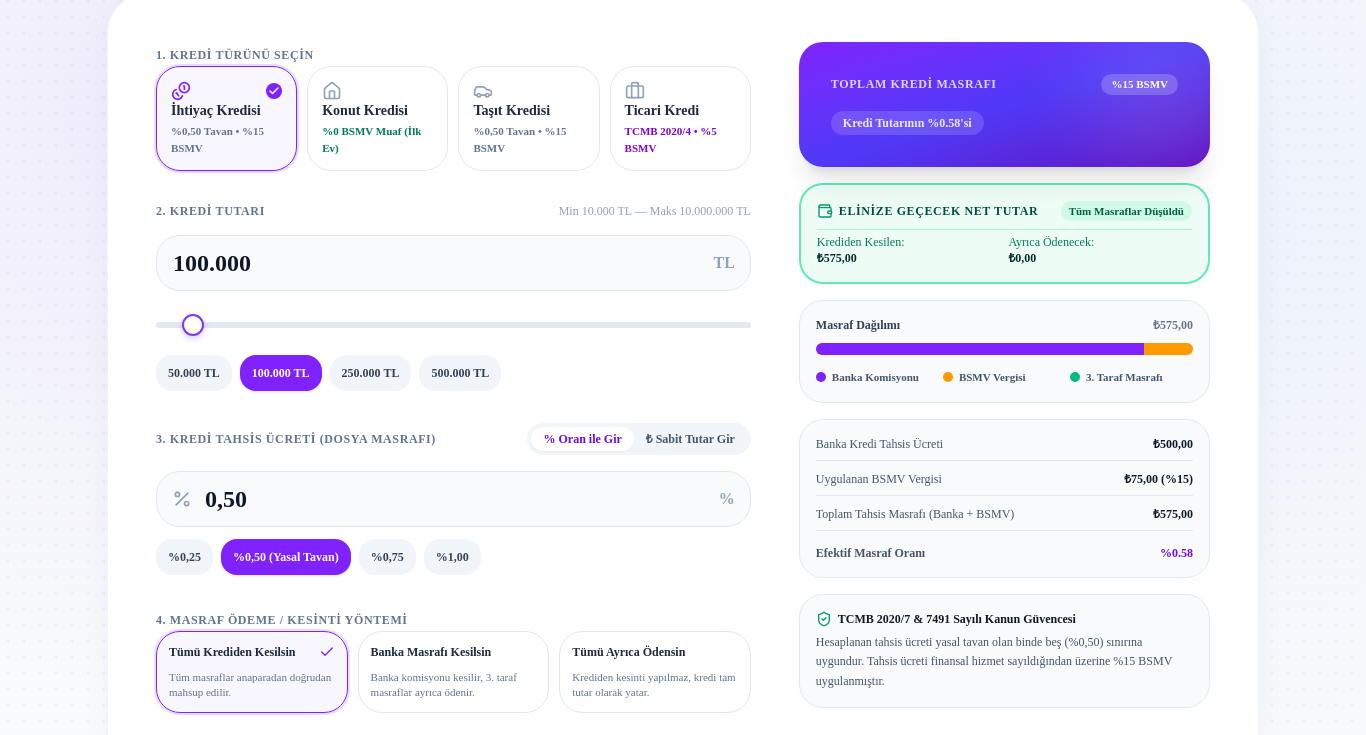
Test: LoanFeeForm Component › displays rotatif average balance input when Rotatif TL is selected
The width and height of the screenshot is (1366, 735).
What coordinates should you click on to do the following:
click the text "Ticari Kredi"
I would click on:
 (662, 110)
Its box is [625, 103, 699, 118].
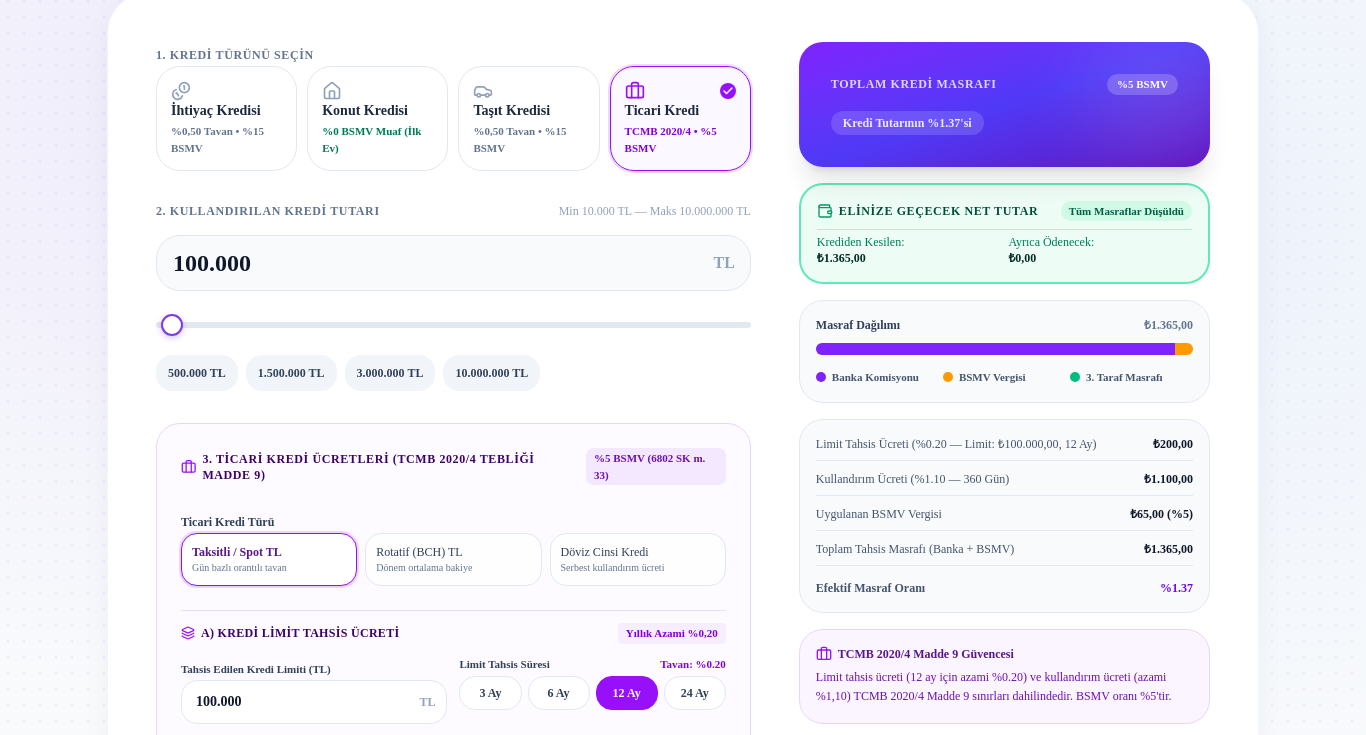
What coordinates should you click on to do the following:
click the text "Rotatif (BCH) TL"
I would click on:
 (420, 552)
Its box is [376, 545, 463, 559].
(page scrolled)
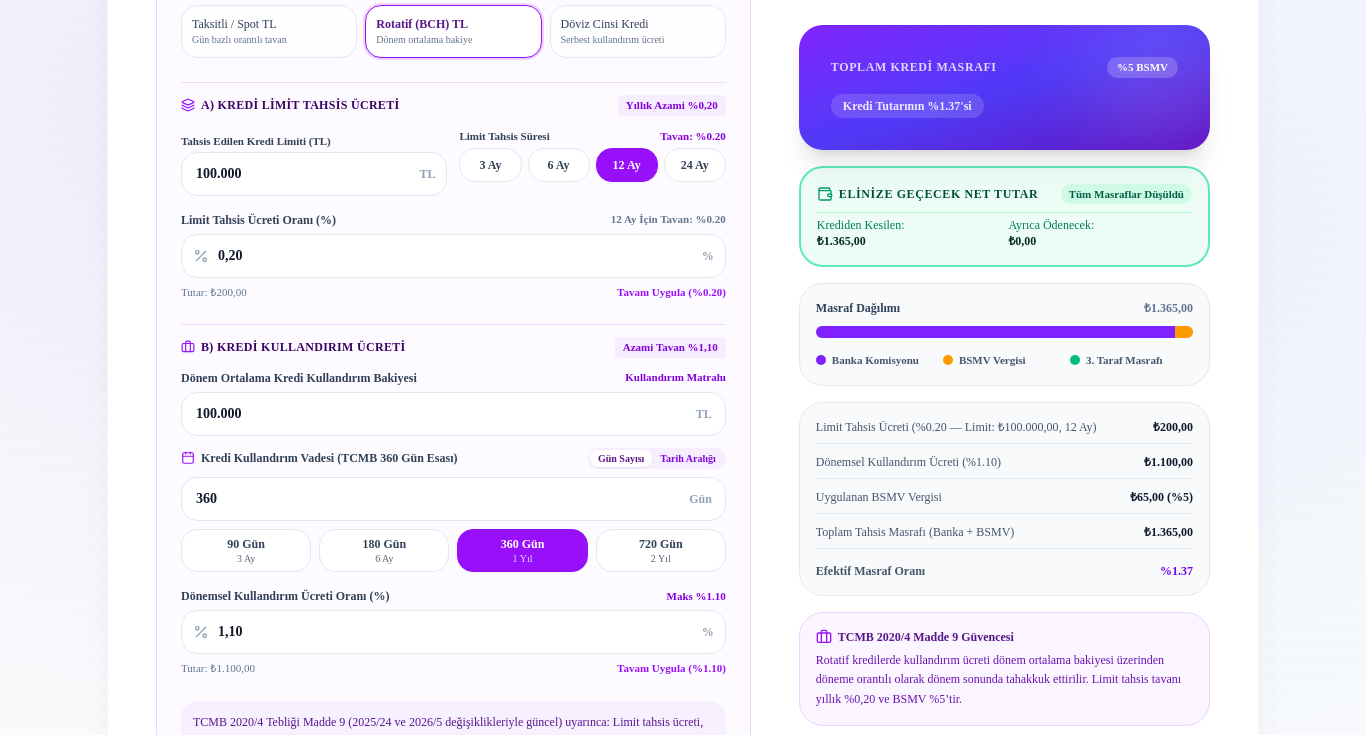
Check: the text "Dönem Ortalama Kredi Kullandırım Bakiyesi" is shown, box [181, 370, 417, 386]
